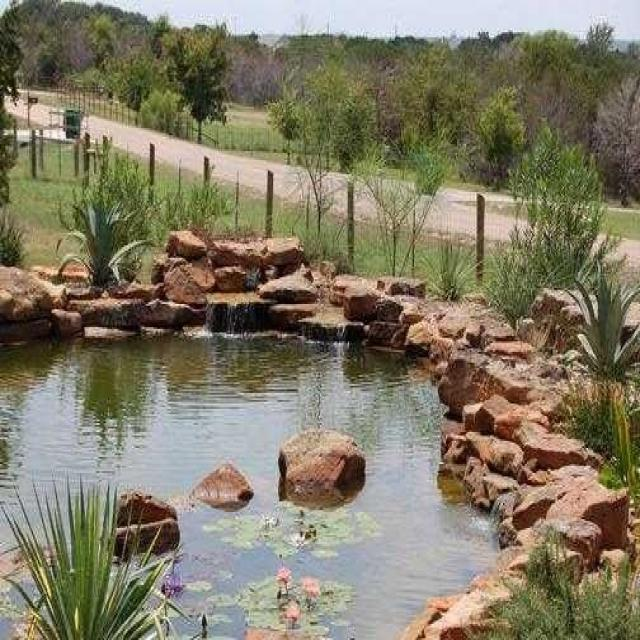Ponds: (1, 231, 640, 640)
